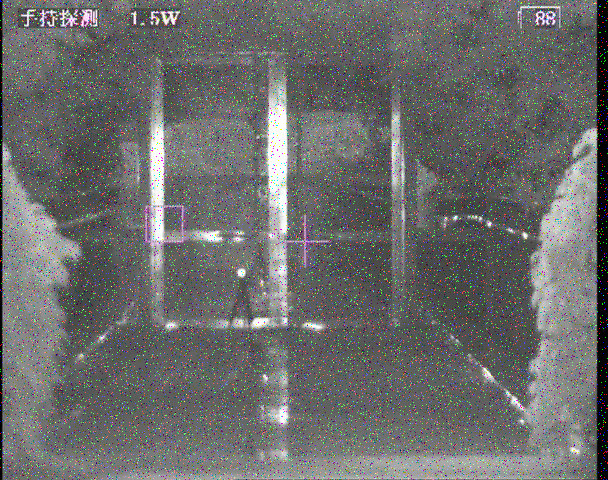my: (235, 267, 247, 279)
